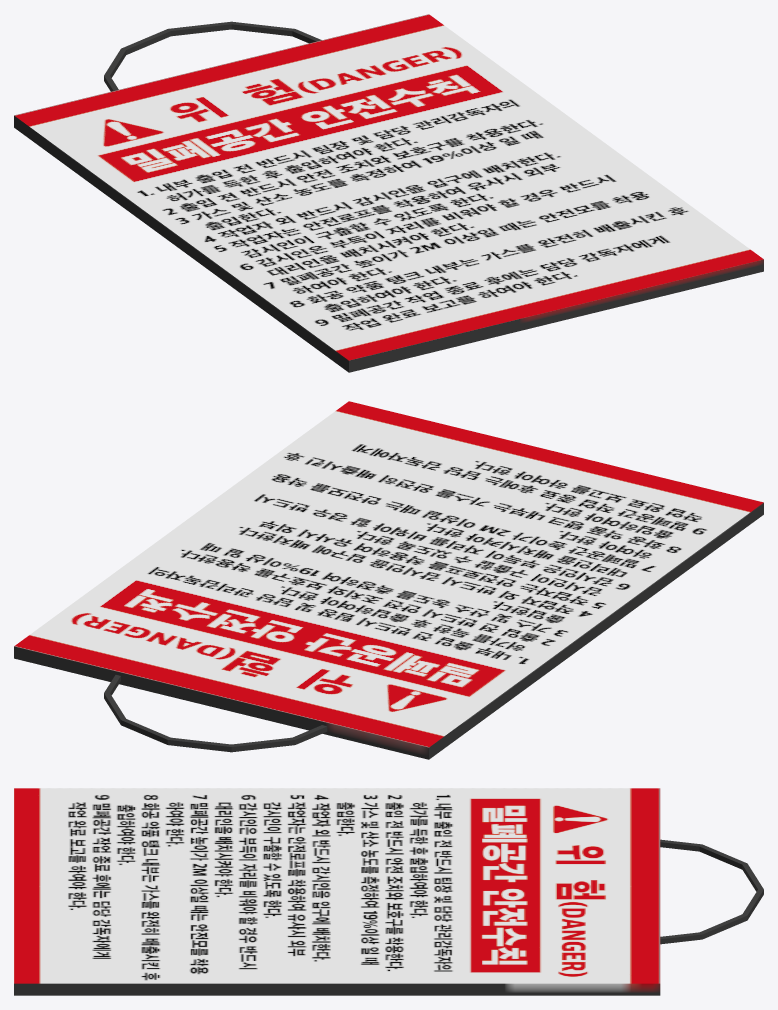
Rendered from Safe.fbx.
3 renders of one model, top to bottom at view 1: azimuth 30°, elevation 25°; view 2: azimuth 150°, elevation 25°; view 3: azimuth 270°, elevation 25°, orthographic. The views are drawn at different scales.
Visible parts, largest first — view 1: Safe_panel; view 2: Safe_panel; view 3: Safe_panel.
Part boxes in pixels (box(x1,y1,x2,y2)): Safe_panel: box(14, 14, 763, 372); Safe_panel: box(14, 401, 763, 759); Safe_panel: box(14, 788, 763, 995).
Bounding box in the file's own units: 0.4143 × 0.0116 × 0.6722.
